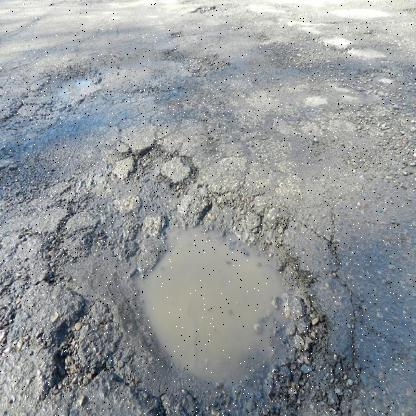pothole_water: (83, 183, 336, 415)
